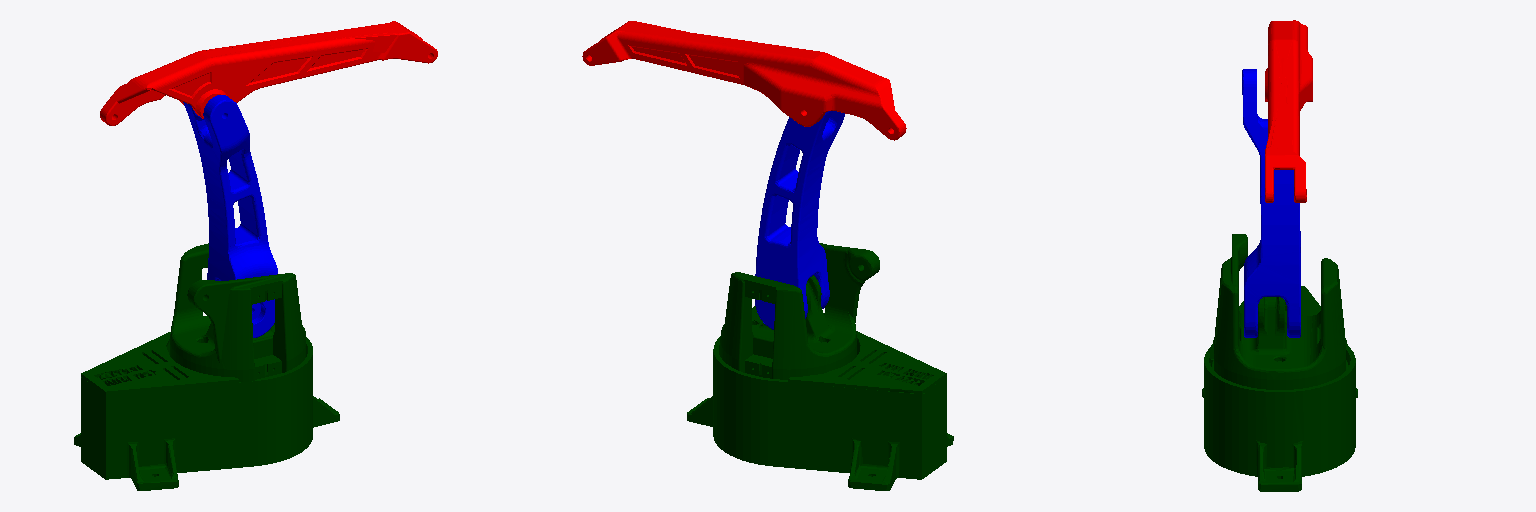
URDF robot description (ebamk2):
<?xml version="1.0"?>

<robot
  name="ebamk2">

<!-- BASE LINK -->
  <link
    name="base_link">
    <visual>
      <origin
        xyz="0 0 0"
        rpy="0 0 0" />
      <geometry>
        <mesh
          filename="package://ebamk2_description/meshes/base_link.STL" />
      </geometry>
      <material
        name="">
        <color
          rgba="0 0.275 0 1" />
      </material>
    </visual>
  </link>

<!-- JOINT 1 -->
  <joint
    name="joint_1"
    type="revolute">
    <origin
      xyz="0 0 0.05"
      rpy="0 0 0" />
    <parent
      link="base_link" />
    <child
      link="link_1" />
    <axis
      xyz="0 0 1" />
    <limit
      effort="0"
      velocity="0"
      lower="-0.7854" upper="0.7854"/>
      <!--   [-45,45]-->
  </joint>

<!-- LINK 1 -->
  <link
    name="link_1">
    <visual>
      <origin
        xyz="0 -0.04 0"
        rpy="0 0 0" />
      <geometry>
        <mesh
          filename="package://ebamk2_description/meshes/link_1.STL" />
      </geometry>
      <material
        name="">
        <color
          rgba="0 0.275 0 1" />
      </material>
    </visual>
  </link>

<!-- JOINT 2 -->
  <joint
    name="joint_2"
    type="revolute">
    <origin
      xyz="0 -0.005 0.035"
      rpy="1.578 0 0" />
    <parent
      link="link_1" />
    <child
      link="link_2" />
    <axis
      xyz="0 0 1" />
    <limit
      effort="0"
      velocity="0"
      lower="-0.6109" upper="0.9599"/>
      <!--   [-35,55]-->
  </joint>

<!-- LINK 2-->
  <link
    name="link_2">
    <visual>
      <origin
        xyz="0 0 0.0075"
        rpy="3.14159 0 0" />
      <geometry>
        <mesh
          filename="package://ebamk2_description/meshes/link_2.STL" />
      </geometry>
      <material
        name="">
        <color
          rgba="0 0 1 1" />
      </material>
    </visual>
  </link>

<!-- JOINT 3 -->
  <joint
    name="joint_3"
    type="revolute">
    <origin
      xyz="-0.021 0.133 -0.0105"
      rpy="0 0 0" />
    <parent
      link="link_2" />
    <child
      link="link_3" />
    <axis
      xyz="0 0 1" />
    <limit
      effort="0"
      velocity="0"
      lower="-1.2217" upper="0.3491"/>
      <!--   [-70,20]-->
  </joint>

<!-- LINK 3 -->
   <link
    name="link_3">
    <visual>
      <origin
        xyz="0 0 0.0335"
        rpy="3.14159 0 0.1309" />
      <geometry>
        <mesh
          filename="package://ebamk2_description/meshes/link_3.STL" />
      </geometry>
      <material
        name="">
        <color
          rgba="1 0 0 1" />
      </material>
    </visual>
  </link>

</robot>

--- Render facts (derived) ---
3 views of the same robot in one strip: view 1: azimuth 30°, elevation 25°; view 2: azimuth 150°, elevation 25°; view 3: azimuth 270°, elevation 25° (orthographic).
Robot: ebamk2 — 4 links, 3 joints (3 revolute); root link base_link; default pose: all joints at 0.
Visible links, largest first — view 1: base_link, link_3, link_1, link_2; view 2: base_link, link_3, link_1, link_2; view 3: base_link, link_1, link_2, link_3.
Boxes of the visible links, x1,y1,x2,y2 form: base_link: (74,332,339,490); link_3: (100,21,437,125); link_1: (170,243,305,381); link_2: (183,95,277,337); base_link: (687,331,953,490); link_3: (582,21,906,140); link_1: (720,243,879,379); link_2: (755,111,844,329); base_link: (1202,286,1357,491); link_1: (1211,234,1348,389); link_2: (1242,69,1300,337); link_3: (1265,20,1312,202).
Bounding box of the posed robot: 0.2301 × 0.0907 × 0.2501 m (x, y, z).
Meshes: 4 distinct files referenced, 4 mesh visuals loaded (4 binary STL).
